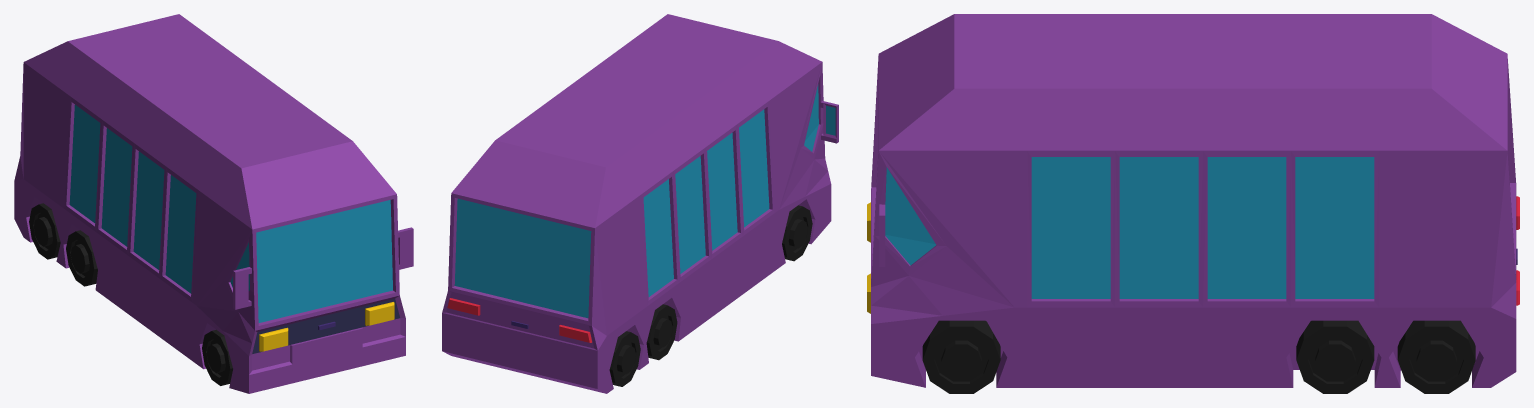
File: bus.obj
3 views of the same model, side by side, from view 1: azimuth 30°, elevation 25°; view 2: azimuth 150°, elevation 25°; view 3: azimuth 270°, elevation 25° (orthographic). The views are drawn at different scales.
Visible parts, largest first — view 1: bus_Cube.013; view 2: bus_Cube.013; view 3: bus_Cube.013.
Boxes of the visible parts, x1,y1,x2,y2 form: bus_Cube.013: (14, 14, 413, 393); bus_Cube.013: (442, 14, 838, 393); bus_Cube.013: (867, 14, 1519, 393).
Size of the model in its own units: 4.39 by 4.96 by 10.12.
